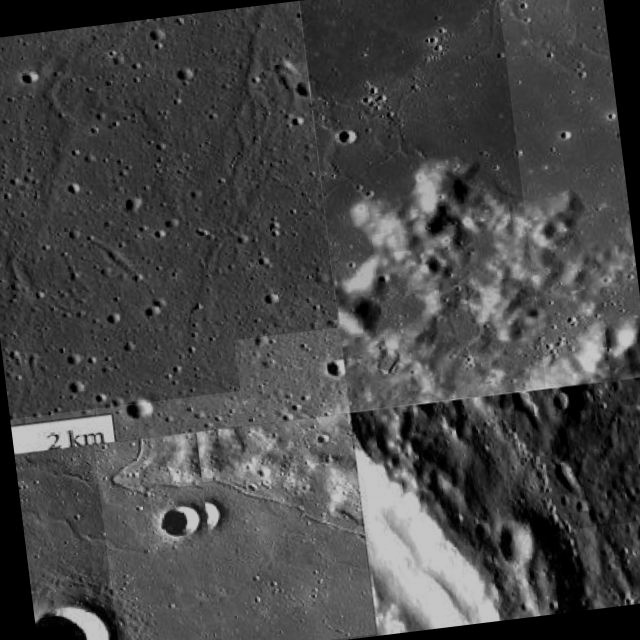crater: (299, 0, 545, 411), (0, 13, 240, 418), (140, 1, 338, 347), (93, 413, 375, 640), (498, 376, 640, 536)
